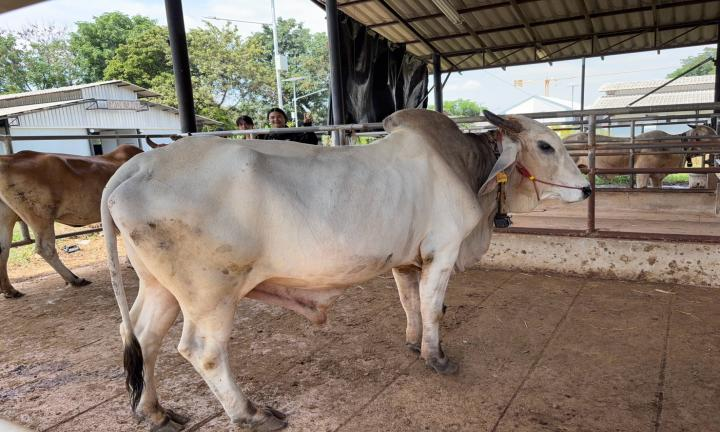Brahman: (100, 109, 591, 430)
